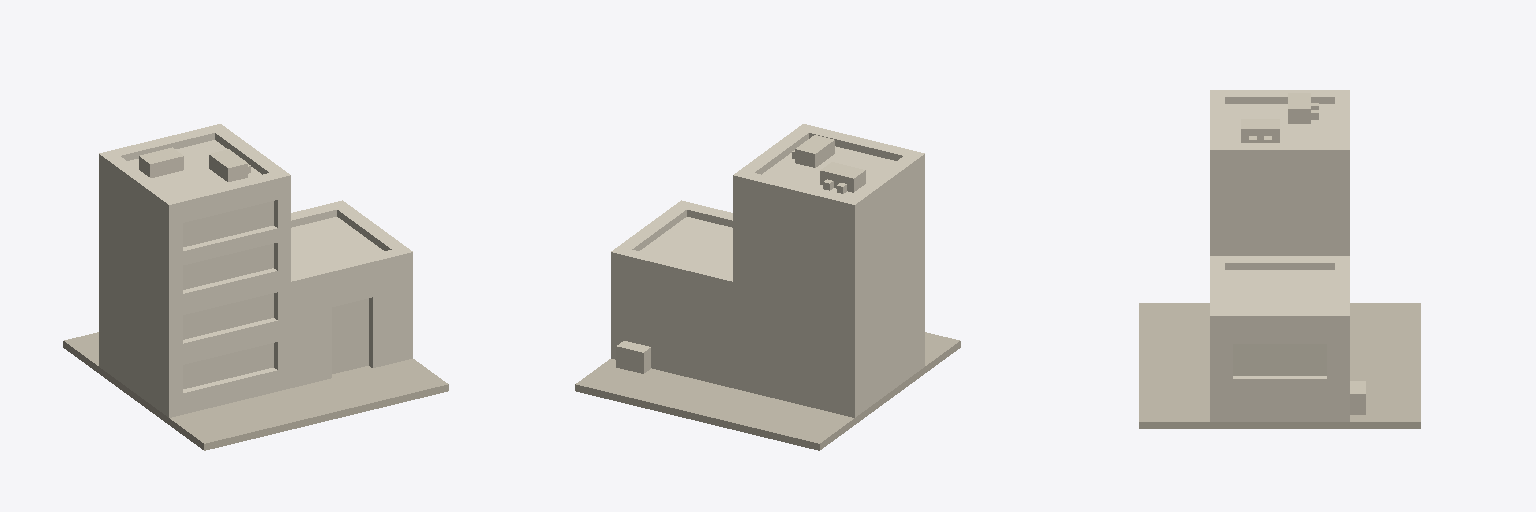
3 views of the same model, side by side, from view 1: azimuth 30°, elevation 25°; view 2: azimuth 150°, elevation 25°; view 3: azimuth 270°, elevation 25° (orthographic).
Parts seen in each view (by area): view 1: 1; view 2: 1; view 3: 1.
Boxes of the visible parts, x1,y1,x2,y2 form: 1: [63, 124, 448, 450]; 1: [575, 124, 960, 450]; 1: [1139, 90, 1420, 428].
Bounding box in the file's own units: 36 × 32 × 36.
1 materials, 1 textured.